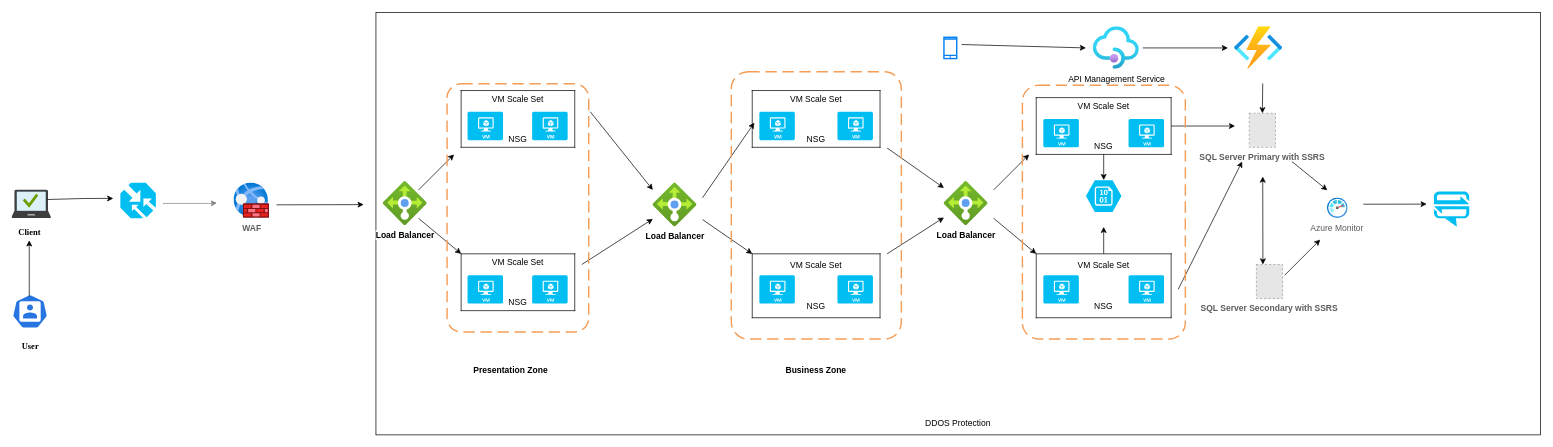
Some shapes in this 1553 by 447 pixel diagram are drawn without their labels. Grey dashed boxes stand in for pictures. Here are the shapes that lost their labels. From the top down, the box of each, then its label:
(1234, 26, 1282, 69): Azure Function to run code
(120, 182, 155, 218): Traffic manager
(1086, 180, 1121, 212): Blob Storage for VM and DB Backup
(1433, 191, 1469, 226): Notification hub for any failure notification
